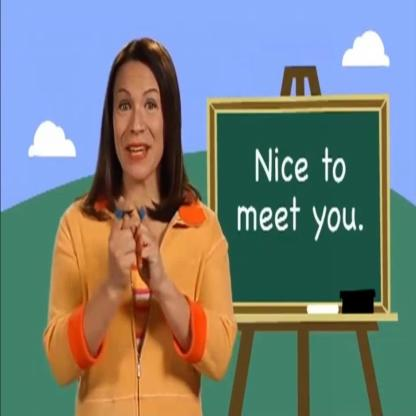NiceToMeetYou: (96, 176, 173, 301)
